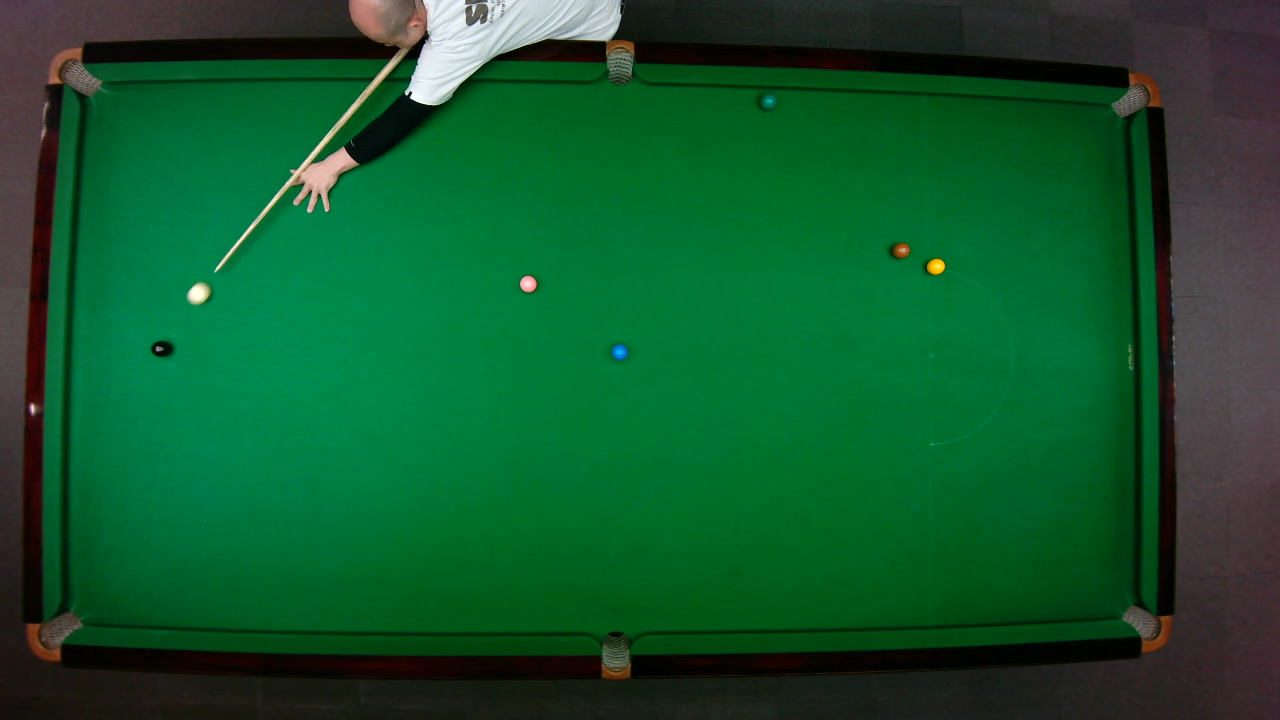bag: (24, 609, 83, 661), (45, 46, 102, 97), (1119, 603, 1172, 652), (1108, 71, 1161, 118), (600, 629, 629, 680), (605, 38, 633, 85)
black: (149, 339, 171, 357)
blue: (610, 343, 628, 360)
brown: (889, 241, 911, 258)
cue: (212, 36, 416, 274)
green: (758, 92, 776, 110)
pink: (517, 274, 537, 293)
white: (185, 280, 212, 305)
yellow: (925, 256, 946, 275)
zone: (927, 266, 1013, 445)
